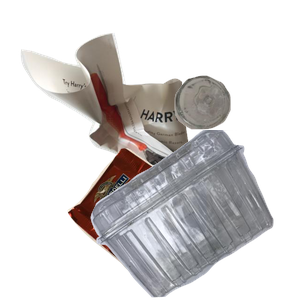glass: (172, 73, 300, 195)
paper: (18, 30, 213, 210)
plastic: (88, 130, 300, 300)
trash: (65, 145, 242, 300)
